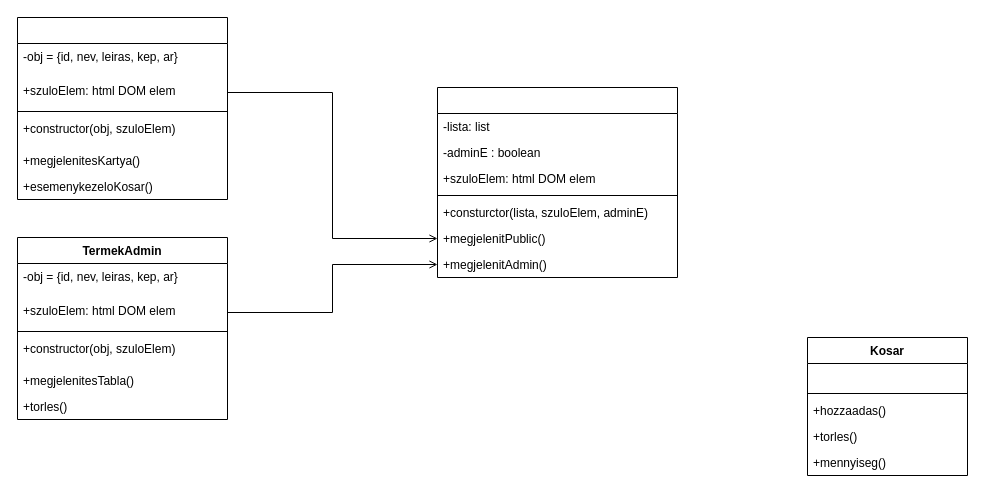
Image size: 985x496. Some labels were removed from this diagram. Here are the shapes that lost their labels. From the top down, the box of each, then its label:
(16, 16, 228, 200): TermekPublic
(436, 86, 678, 278): Termekek
